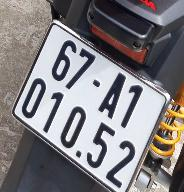0: (56, 98, 92, 153), (16, 72, 52, 124)
1: (112, 79, 148, 133), (35, 86, 72, 138)
2: (101, 133, 146, 192)
5: (80, 119, 120, 175)
6: (46, 36, 85, 88)
7: (60, 46, 100, 94)
A: (96, 67, 132, 122)
